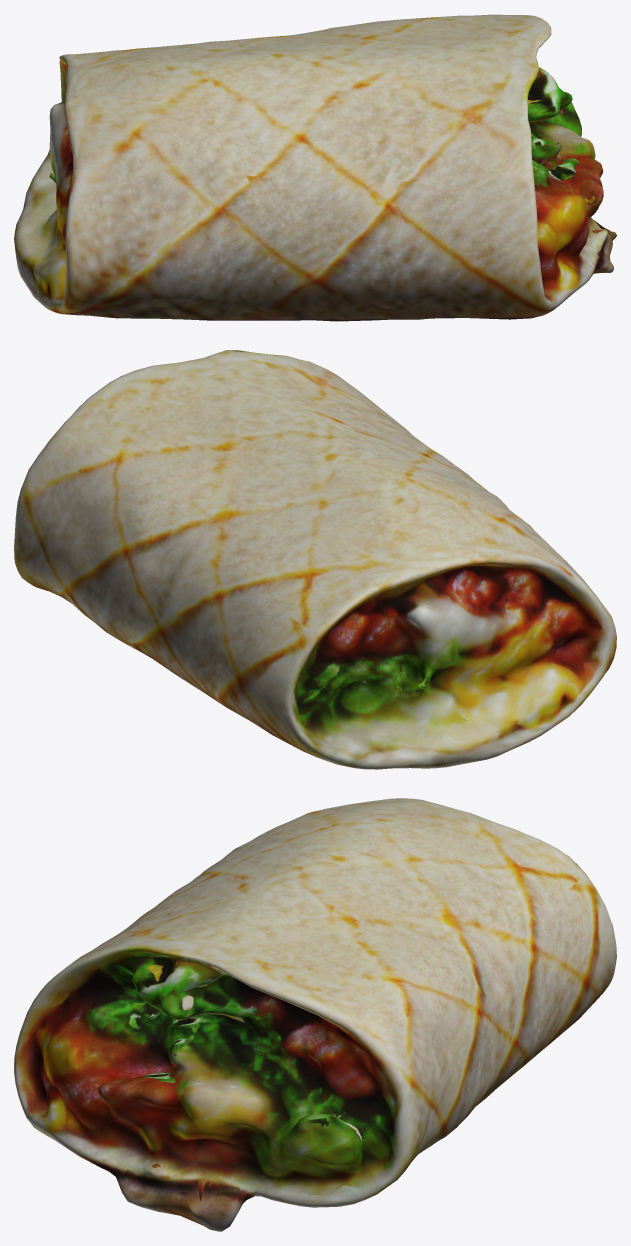
The model's file is Wrap.glb.
3 views of the same model, one above another, from view 1: azimuth 30°, elevation 25°; view 2: azimuth 150°, elevation 25°; view 3: azimuth 270°, elevation 25° (orthographic). The views are drawn at different scales.
Parts seen in each view (by area): view 1: Wrap; view 2: Wrap; view 3: Wrap.
Boxes of the visible parts, x1,y1,x2,y2 form: Wrap: (14,14,616,321); Wrap: (14,350,616,769); Wrap: (14,798,616,1231).
Size of the model in its own units: 0.1281 by 0.0521 by 0.1169.
1 material, 1 textured.
